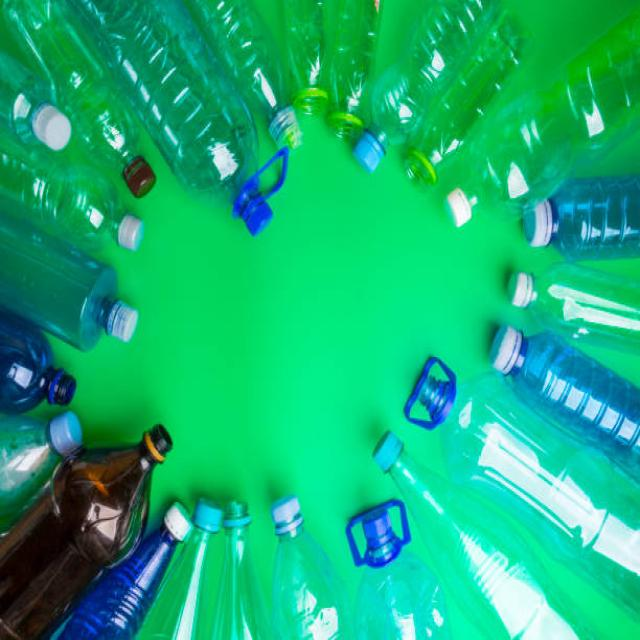plastic: (9, 1, 536, 228), (47, 453, 578, 632)
